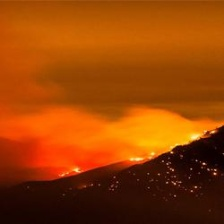fire: (62, 123, 224, 192)
